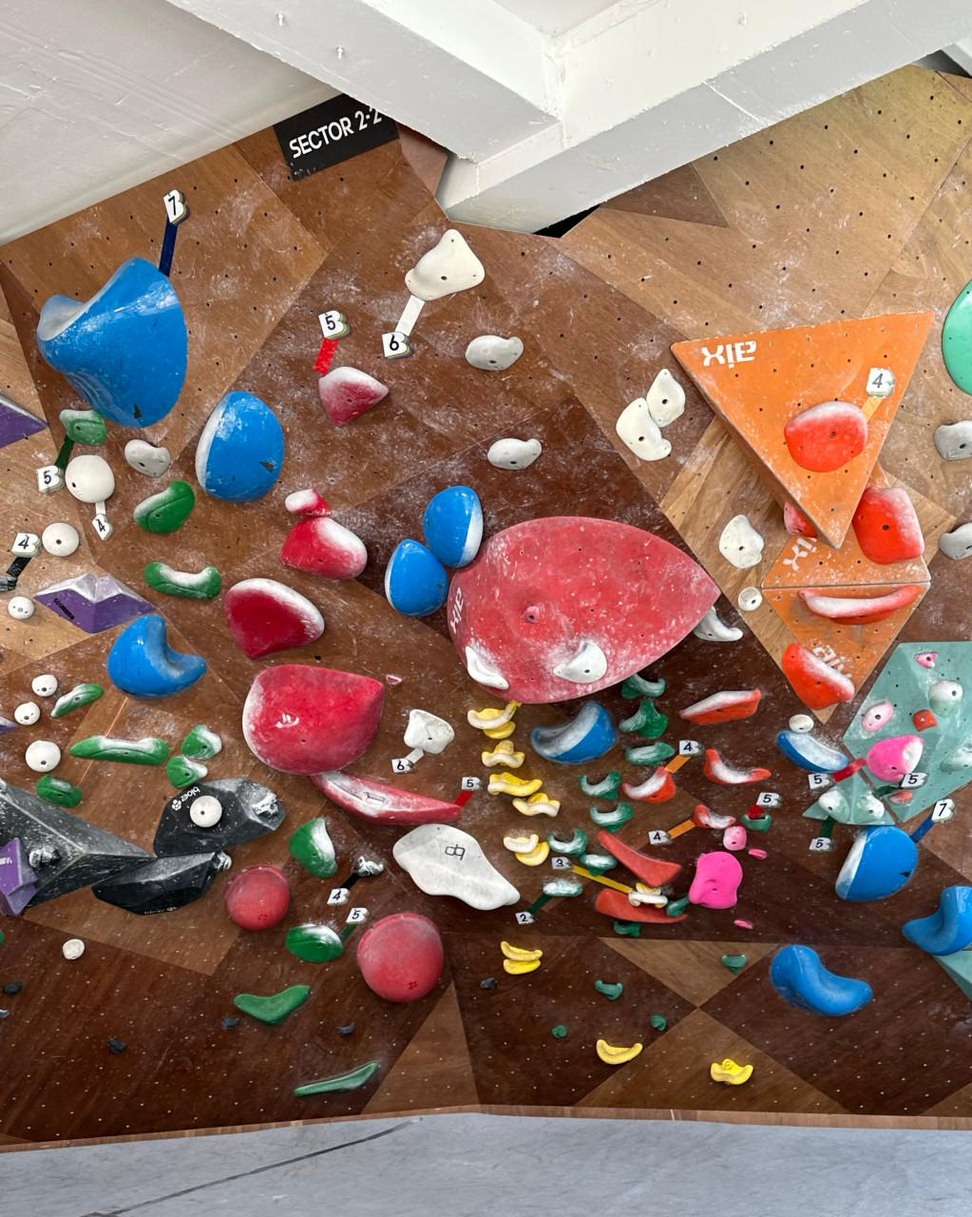hold: (37, 259, 187, 426), (243, 665, 384, 774), (394, 823, 520, 910), (196, 391, 284, 502), (310, 770, 464, 824), (107, 614, 205, 698), (225, 579, 324, 658), (33, 573, 154, 633), (357, 914, 441, 999), (771, 945, 872, 1014), (836, 826, 917, 900), (784, 400, 867, 472), (405, 229, 485, 300), (851, 487, 924, 563), (531, 702, 616, 763), (280, 516, 365, 577), (424, 487, 483, 567), (385, 539, 447, 615), (904, 887, 971, 955), (782, 644, 852, 709), (799, 587, 919, 624), (599, 832, 680, 885), (319, 367, 388, 425), (225, 867, 288, 930), (942, 281, 971, 395), (617, 398, 670, 460), (596, 888, 685, 923), (777, 729, 848, 772), (293, 1062, 379, 1097), (234, 985, 311, 1024), (134, 481, 194, 531), (690, 851, 742, 908), (70, 735, 169, 764), (0, 838, 37, 914), (866, 734, 923, 782), (290, 818, 336, 877), (145, 562, 220, 598), (680, 691, 761, 724), (0, 395, 45, 448), (719, 514, 763, 568), (704, 749, 770, 784), (553, 640, 606, 683), (66, 455, 113, 501), (404, 709, 453, 753), (647, 369, 684, 426), (286, 924, 343, 961), (466, 335, 523, 371), (621, 766, 675, 802), (620, 698, 667, 738), (465, 645, 507, 689), (50, 684, 104, 717), (488, 438, 542, 470), (693, 607, 742, 641), (125, 439, 170, 476), (487, 771, 542, 798), (61, 411, 105, 444), (181, 724, 221, 760), (37, 775, 81, 807), (468, 703, 520, 730), (935, 420, 971, 459), (503, 940, 543, 975), (928, 679, 963, 716), (166, 756, 207, 787), (42, 523, 79, 556), (818, 786, 851, 823), (482, 739, 524, 768), (591, 802, 633, 830), (285, 490, 330, 516), (26, 740, 61, 773), (514, 792, 560, 817), (579, 770, 621, 797), (597, 1039, 642, 1064), (710, 1058, 753, 1084), (693, 803, 735, 829), (851, 792, 885, 824), (940, 523, 971, 558), (548, 829, 588, 856), (626, 741, 675, 763), (784, 503, 815, 537), (622, 673, 664, 698), (253, 793, 282, 829), (862, 701, 893, 732), (190, 796, 220, 826), (29, 843, 61, 871), (941, 744, 971, 772), (517, 840, 549, 866), (581, 853, 617, 873), (543, 879, 582, 896), (353, 856, 384, 877), (503, 834, 538, 852), (9, 596, 34, 620), (723, 824, 747, 849), (31, 674, 57, 696), (14, 702, 40, 724), (738, 587, 762, 610), (486, 721, 515, 739), (666, 895, 689, 917), (596, 980, 622, 999), (789, 713, 813, 732), (913, 710, 936, 729), (722, 955, 746, 973), (742, 816, 772, 830), (888, 789, 914, 804), (63, 938, 82, 958), (614, 920, 639, 935), (335, 1021, 359, 1035), (0, 573, 16, 593), (916, 651, 935, 666), (3, 980, 22, 995), (0, 717, 17, 733), (111, 1037, 129, 1051), (524, 608, 539, 622), (651, 1015, 666, 1029), (734, 919, 752, 929), (386, 675, 402, 686), (553, 1025, 567, 1037), (481, 977, 495, 988), (749, 849, 766, 858), (225, 1019, 240, 1029), (0, 1009, 9, 1019)
volume: (672, 310, 933, 552), (447, 516, 719, 703), (758, 457, 933, 704), (844, 642, 971, 820), (0, 780, 150, 914), (153, 777, 285, 856), (92, 852, 230, 914), (803, 770, 895, 826)
